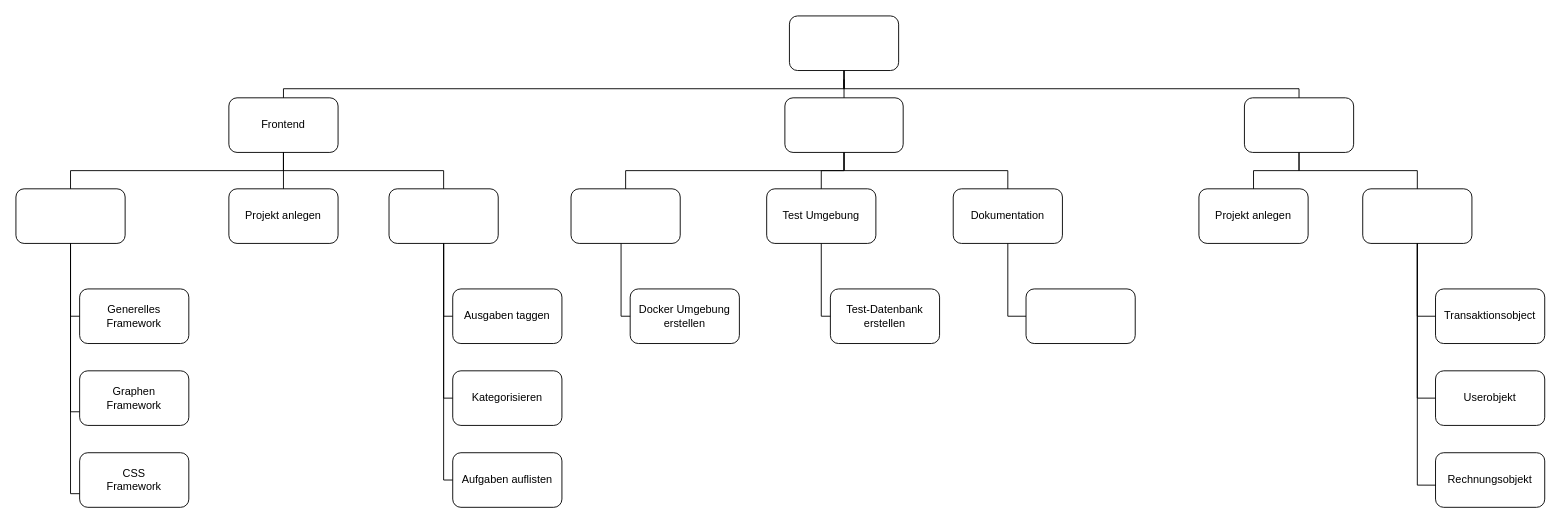
Some shapes in this 1561 by 523 pixel diagram are drawn without their labels. The shapes that lost their labels are listed below. From the top down, each one's centre as x and y in pixels, then its label:
At (844,43): "SteakLasagne".
At (843,124): "Entwicklungsumgebung".
At (1299,124): "Backend".
At (70,215): "Framework".
At (443,215): "Graphen anzeigen".
At (625,215): "Lokale Umgebung".
At (1417,215): "Datenbankanbindung".
At (1080,316): "Swagger".
